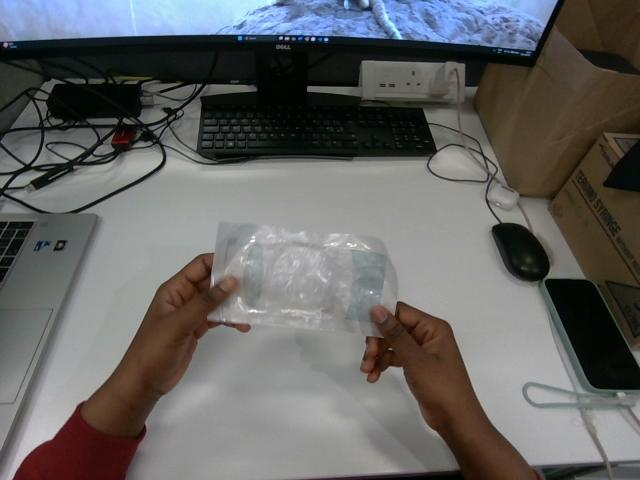gallipot: (209, 222, 396, 335)
